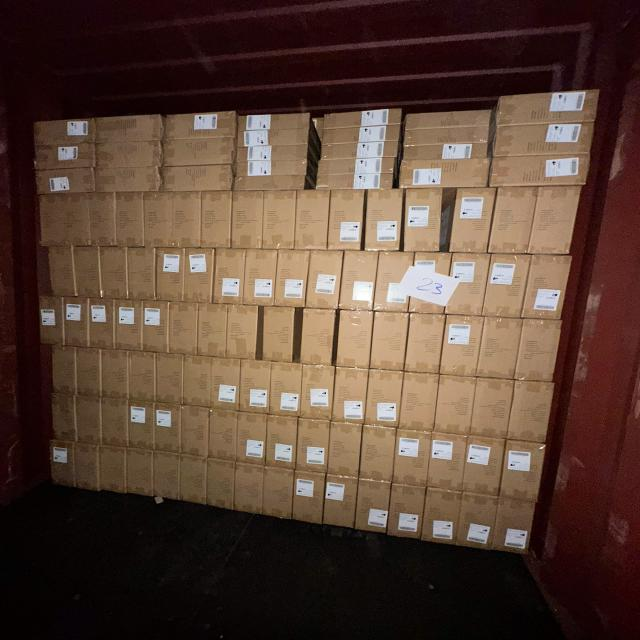Carton: (494, 120, 597, 158), (496, 89, 602, 125), (530, 183, 582, 256), (492, 151, 592, 187), (526, 254, 574, 321), (490, 186, 534, 255), (452, 187, 496, 254), (519, 320, 564, 384), (485, 254, 529, 319), (508, 378, 553, 440), (400, 156, 489, 187), (480, 318, 523, 381), (502, 440, 546, 501), (445, 255, 487, 318), (403, 189, 443, 254), (494, 499, 538, 556), (473, 377, 514, 438), (442, 317, 482, 378), (364, 190, 402, 253), (466, 435, 506, 494), (458, 496, 498, 554), (437, 375, 476, 434), (412, 254, 449, 316), (161, 136, 234, 167), (373, 253, 410, 314), (422, 487, 460, 546), (341, 252, 377, 313), (430, 433, 467, 492), (331, 190, 366, 252), (402, 370, 438, 430), (407, 314, 444, 372), (93, 115, 167, 144), (337, 312, 373, 371), (297, 190, 331, 250), (368, 369, 403, 427), (373, 314, 408, 372), (396, 428, 431, 486), (388, 485, 424, 541), (308, 252, 342, 311), (162, 114, 239, 140), (264, 191, 297, 251), (299, 312, 334, 368), (362, 428, 397, 484), (34, 118, 99, 148), (160, 165, 232, 192), (335, 367, 368, 425), (321, 107, 404, 130), (262, 307, 296, 363), (355, 480, 389, 536), (38, 193, 73, 247), (403, 109, 492, 130), (402, 126, 491, 147), (276, 252, 308, 310), (330, 423, 363, 479), (95, 141, 161, 169), (322, 123, 402, 146), (325, 476, 359, 530), (233, 191, 264, 250), (244, 251, 276, 308), (300, 364, 332, 421), (34, 143, 99, 171), (319, 141, 401, 163), (96, 170, 162, 197), (172, 192, 203, 249), (36, 170, 99, 198), (298, 420, 330, 475), (202, 191, 232, 249), (215, 250, 246, 306), (270, 362, 302, 416), (228, 305, 260, 359), (240, 360, 271, 415), (183, 250, 214, 305), (143, 192, 173, 248), (267, 417, 298, 471), (264, 469, 295, 522), (294, 472, 325, 525), (115, 192, 144, 248), (89, 192, 118, 247), (211, 358, 240, 412), (157, 250, 186, 304), (236, 415, 266, 467), (168, 303, 198, 355), (48, 247, 78, 299), (236, 112, 313, 132), (199, 304, 228, 357), (235, 464, 264, 516), (128, 250, 157, 302), (72, 248, 101, 300), (207, 461, 236, 513), (208, 410, 238, 460), (316, 157, 398, 175), (403, 142, 489, 159), (181, 405, 209, 457), (100, 249, 128, 301), (180, 456, 208, 508), (142, 302, 170, 354), (185, 355, 213, 407), (72, 442, 101, 492), (316, 172, 392, 191), (114, 300, 142, 351), (154, 451, 182, 502), (127, 448, 156, 497), (158, 354, 185, 406), (64, 192, 90, 246), (89, 299, 117, 349), (52, 345, 80, 395), (99, 446, 128, 494), (102, 399, 130, 448), (156, 403, 183, 453), (103, 351, 130, 401), (130, 352, 157, 402), (75, 347, 102, 397), (50, 440, 77, 490), (64, 298, 90, 348), (129, 401, 155, 451), (52, 394, 78, 444), (75, 397, 102, 445), (237, 143, 308, 161), (41, 300, 67, 349), (232, 176, 308, 192), (236, 130, 310, 146), (233, 161, 310, 176)
